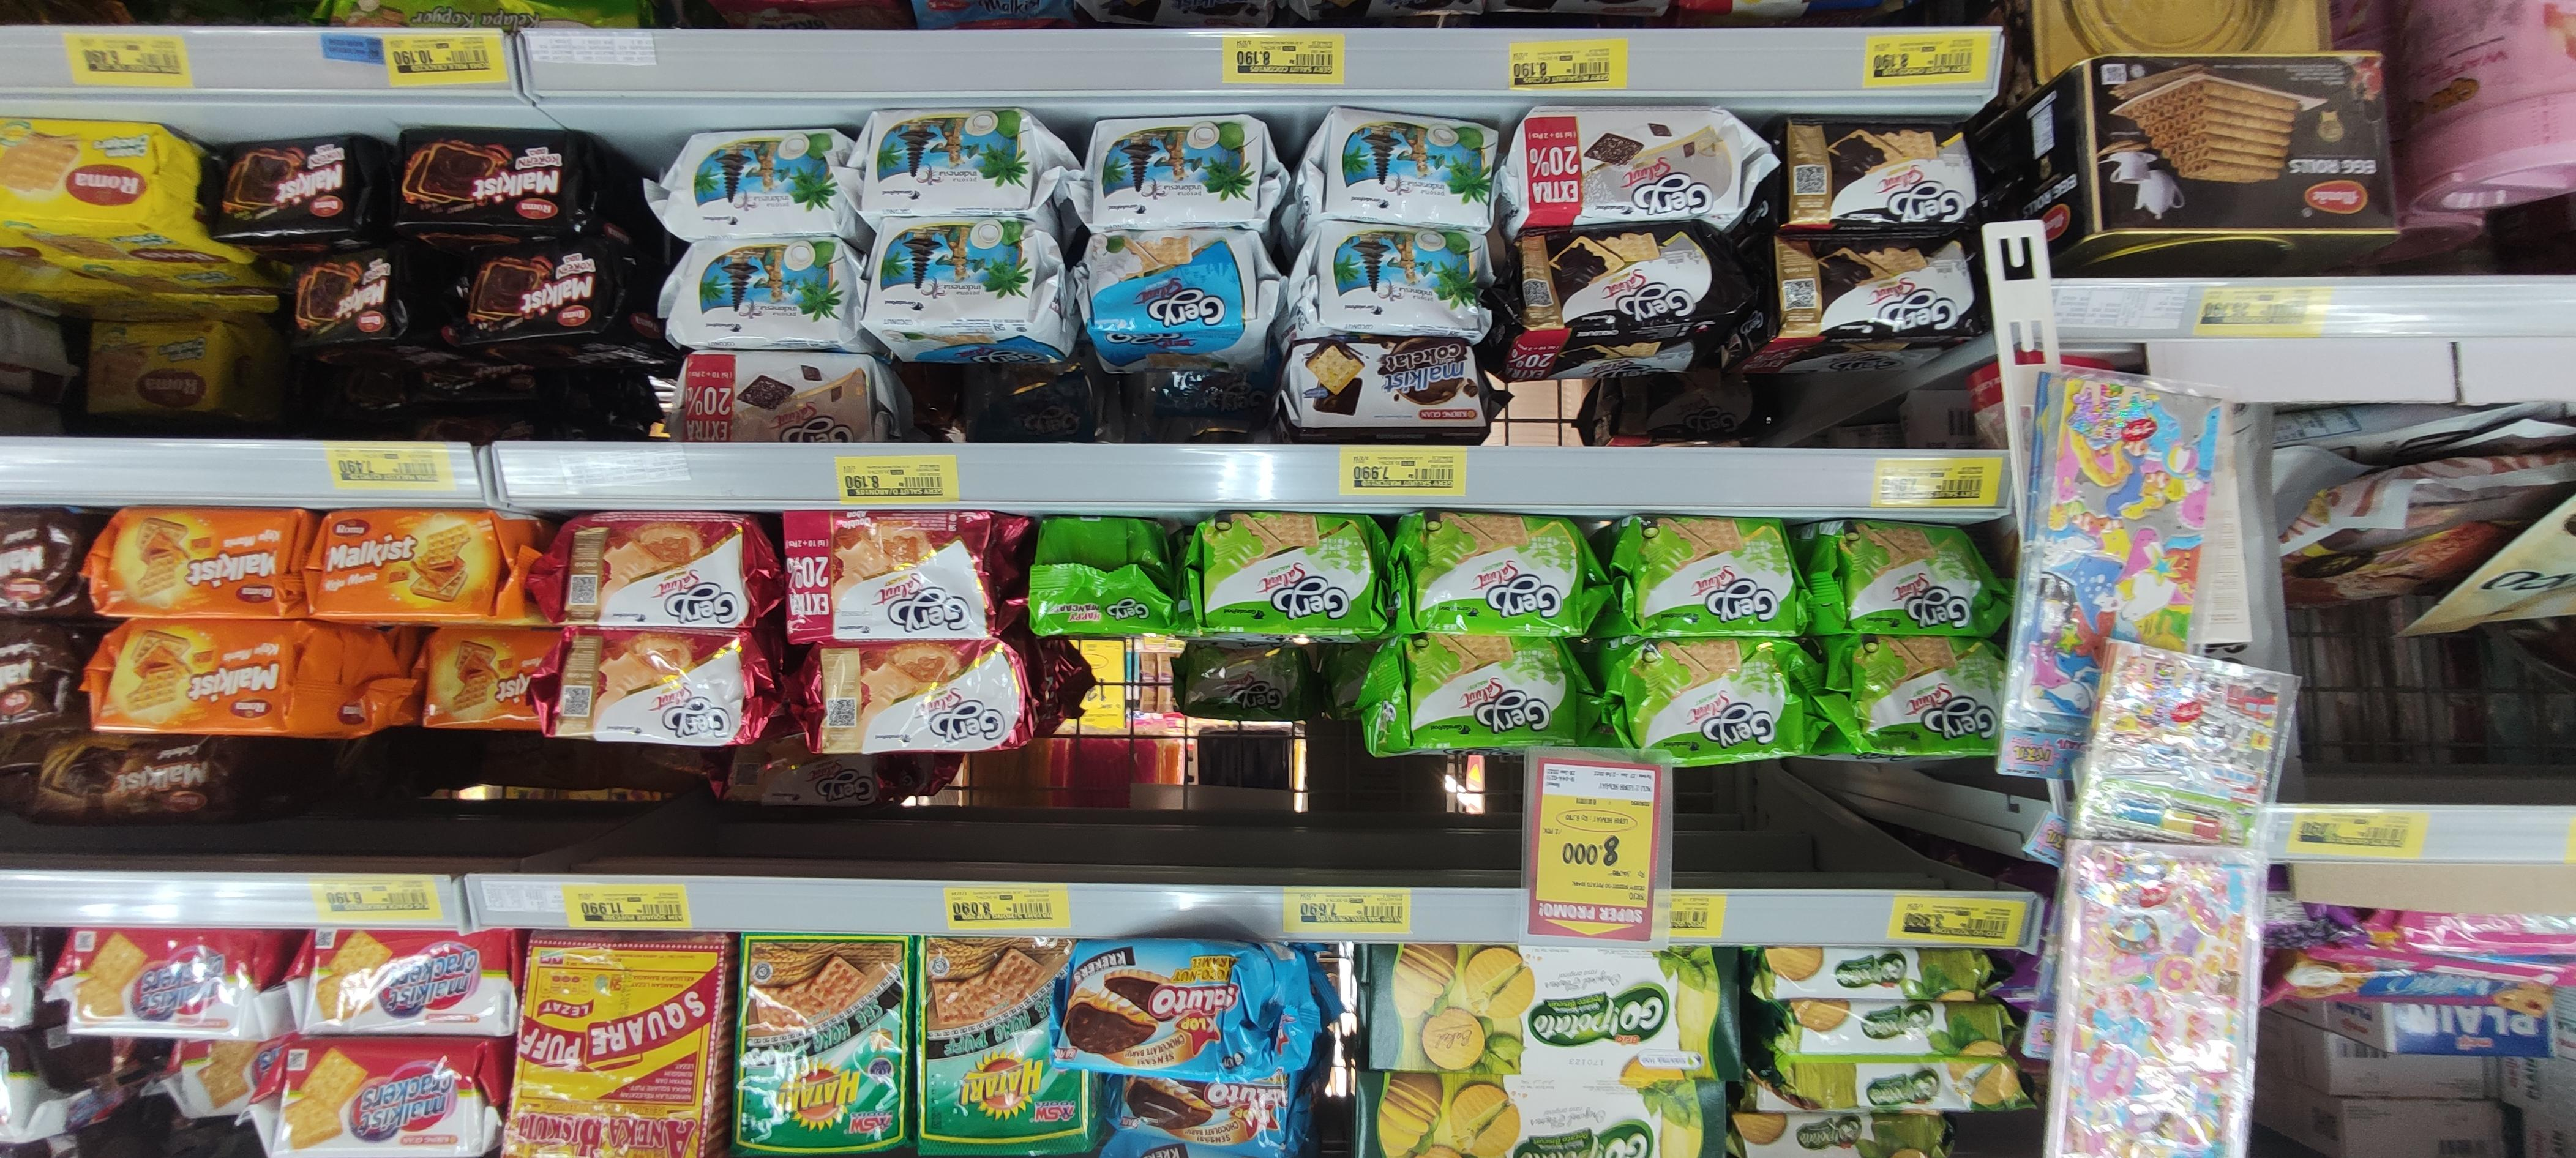90101225202101: (1505, 235, 1743, 378), (1751, 237, 1990, 379), (1768, 118, 1988, 235)
90101225209100: (670, 245, 858, 352), (879, 222, 1055, 332), (662, 133, 846, 237), (1081, 235, 1273, 333), (1303, 228, 1480, 329), (1318, 118, 1485, 222), (1094, 120, 1260, 218), (866, 115, 1030, 212)
90101225212101: (1403, 512, 1598, 641), (1181, 509, 1377, 637), (1383, 632, 1577, 761), (1832, 636, 2026, 762), (1615, 637, 1809, 764), (1822, 509, 2016, 636), (1612, 519, 1805, 646), (1019, 517, 1166, 647), (1168, 631, 1329, 733)
90101225218101: (1516, 110, 1759, 222), (660, 348, 895, 445)
90101225226101: (798, 632, 1032, 762), (545, 623, 767, 757), (555, 506, 764, 636), (782, 509, 991, 637)
AimBiskuitSquarePuff: (513, 936, 716, 1158)
GoPotato104Gr: (1370, 936, 1741, 1084)
GoPotato60Gr: (1791, 1053, 2009, 1112), (1781, 995, 1999, 1055), (1761, 944, 1981, 1002)
HatariSeeHongPuff: (741, 935, 909, 1153), (920, 936, 1088, 1153)
KhonGuanMalkistCokelat: (1293, 342, 1495, 432)
KhongGuanMalkistCrackers: (301, 925, 514, 1040), (281, 1041, 495, 1155), (62, 926, 276, 1040)
KlopSalutoChocoNutCaramel: (1073, 944, 1318, 1078)
RomaCreamCrackers: (0, 115, 191, 230), (89, 319, 215, 409)
RomaMalkistKejuManis: (89, 627, 409, 733), (304, 504, 524, 614), (100, 509, 302, 618)
RomaMalkistKoreanBBQ: (396, 125, 591, 228), (435, 237, 629, 338), (199, 133, 368, 237), (271, 256, 416, 348)
